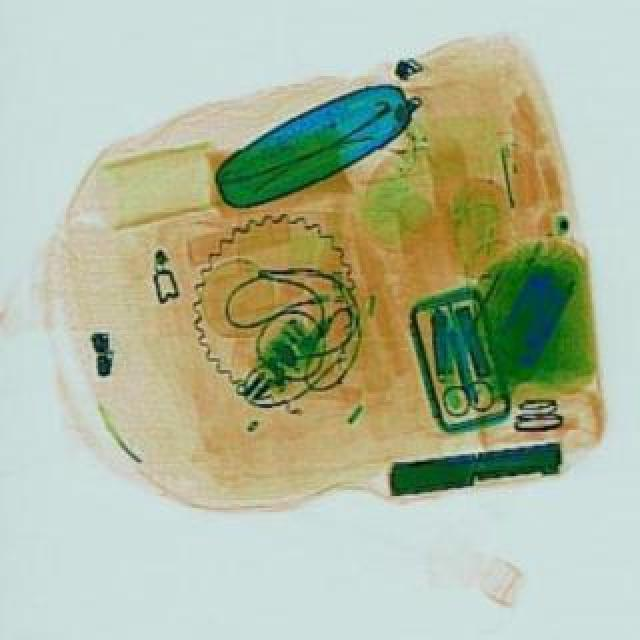pliers: (420, 320, 496, 416)
